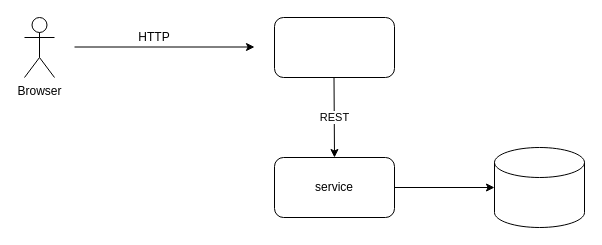
The diagram is 602 pixels wide and 245 high, and some of its shapes have lost their labels. The shapes that lost their labels are listed below. From the top down, each one's centre as x and y in pixels, then its label:
At [334,47]: "web app".
At [539,187]: "PostgreSQL".
